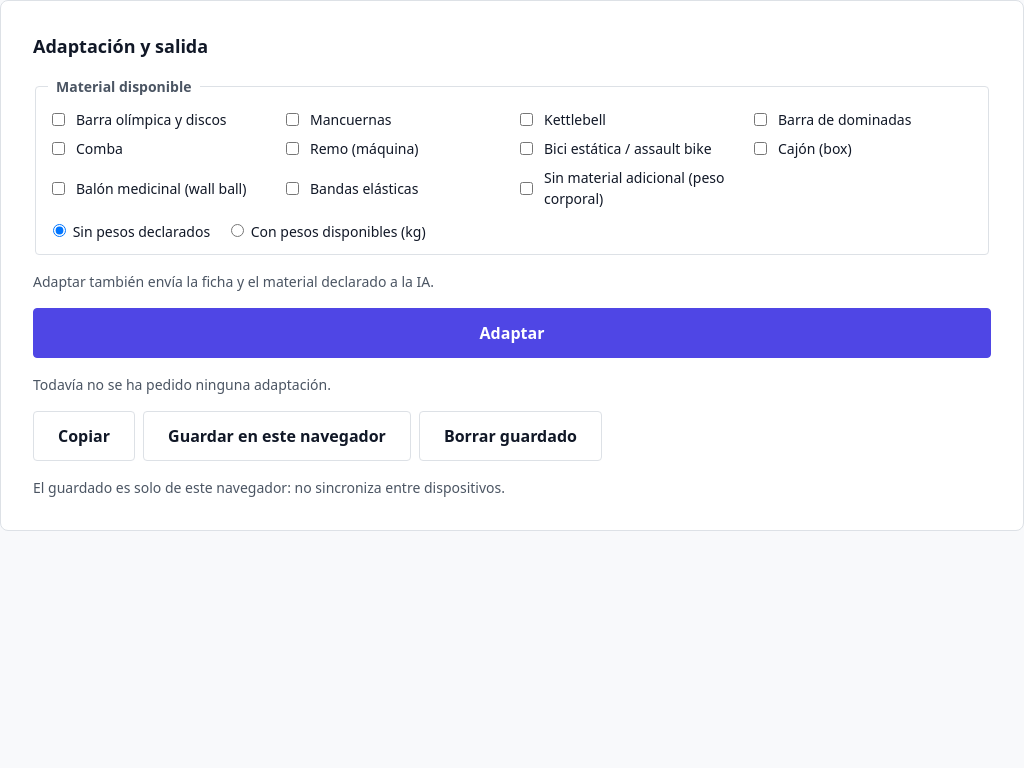
Scenario: AdaptacionPanel › shows a success message when the clipboard write succeeds
Click the button "Copiar" at (84, 436), box 33,411 -> 135,461
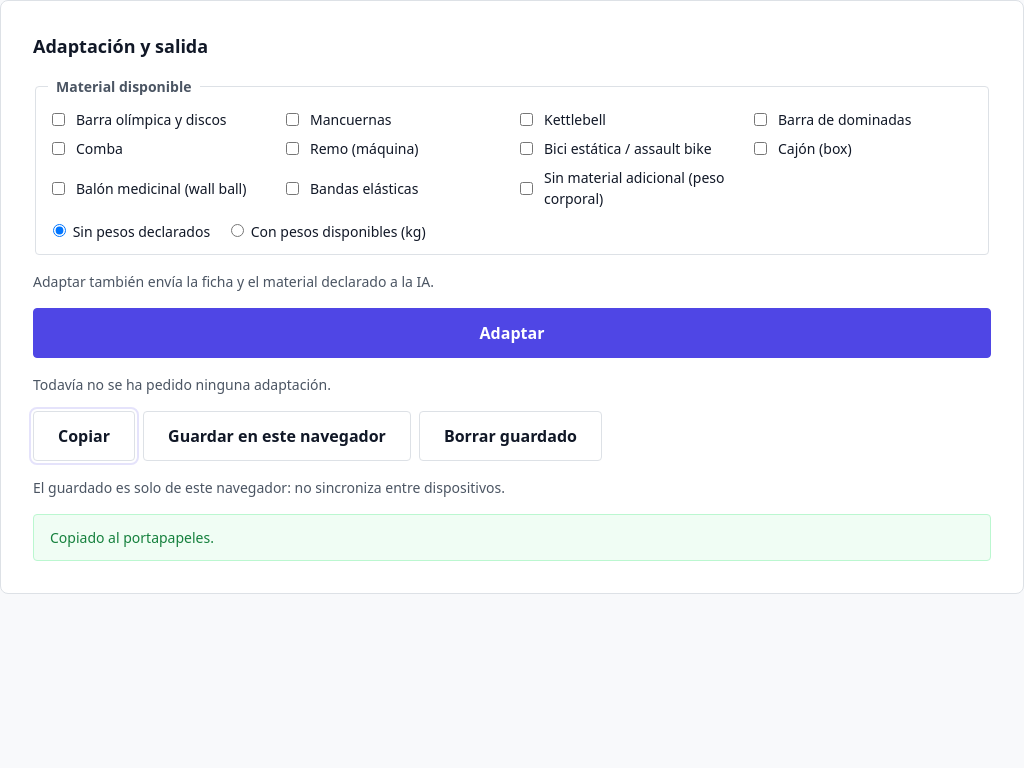
Now the text "Copiado al portapapeles." is shown, box 33,514 -> 991,561
